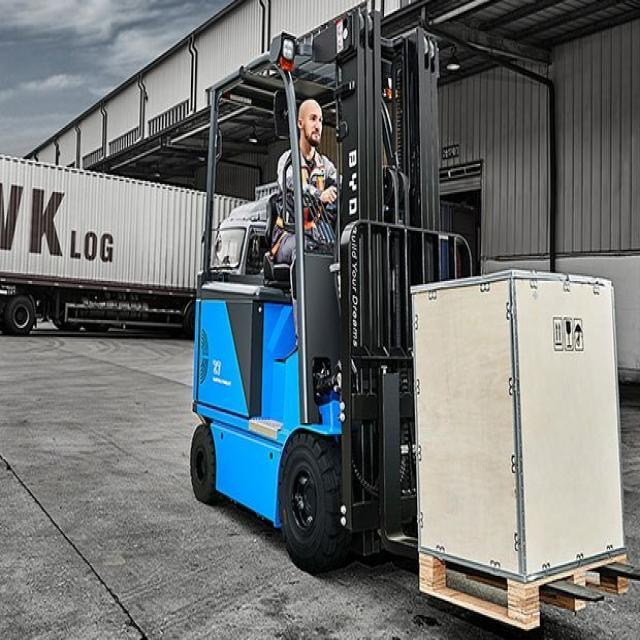driver: (270, 95, 337, 262)
forklift: (178, 18, 490, 607)
